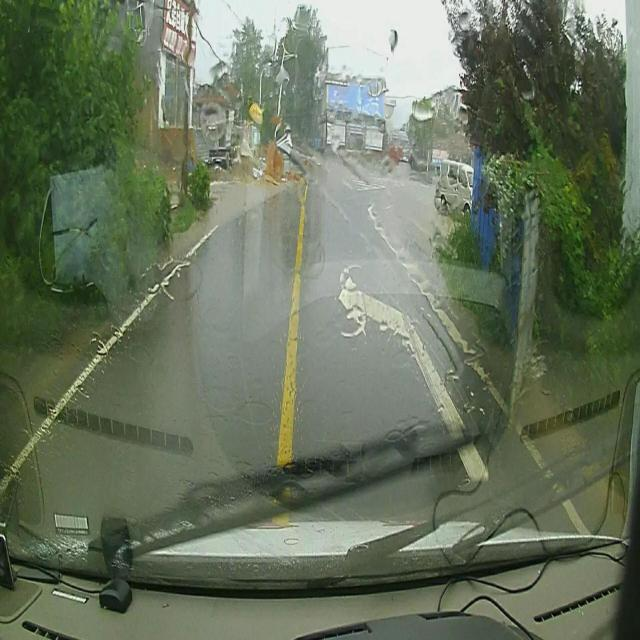car: (436, 159, 476, 212)
